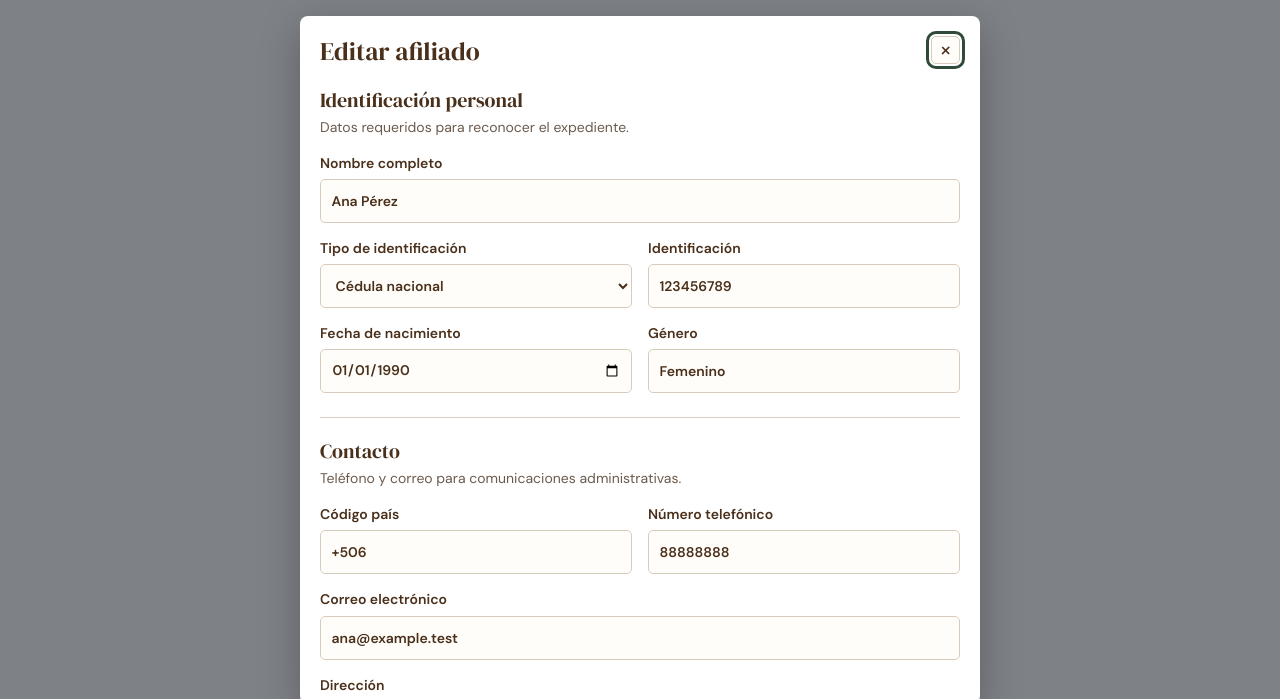
Test: Affiliate detail and edit › blocks an identification without a selected type before updating
Select "Sin especificar" in the dropdown labelled "Tipo de identificación". click: (476, 286)
box: 320,264 -> 632,308
(page scrolled)
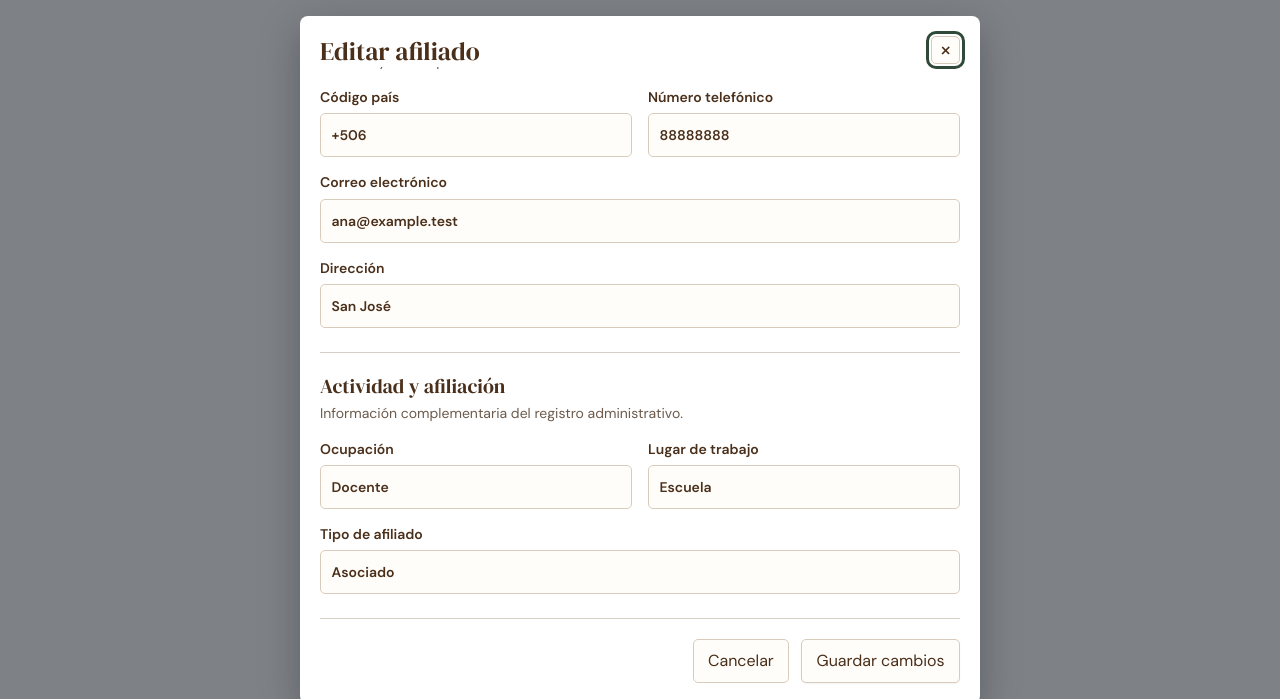
Click the button "Guardar cambios". click: (881, 661)
box: 801,639 -> 960,683
(page scrolled)
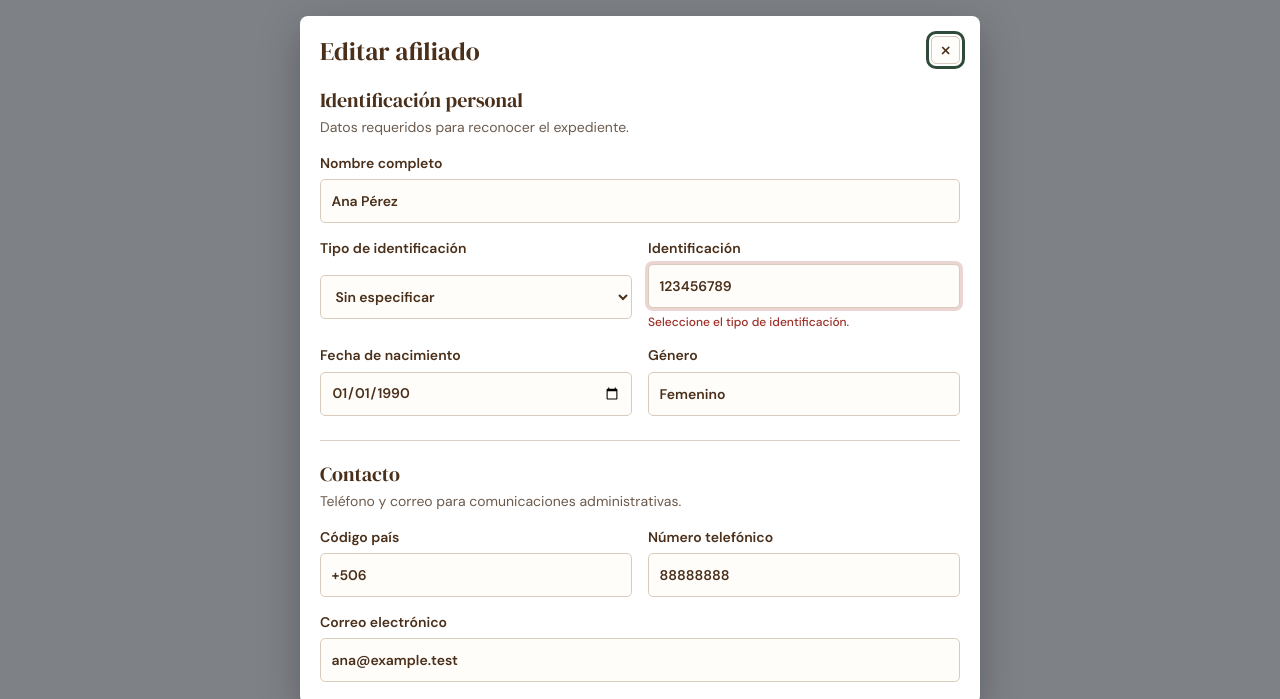
Result: the message reads "Seleccione el tipo de identificación." at 648,314 -> 849,330
